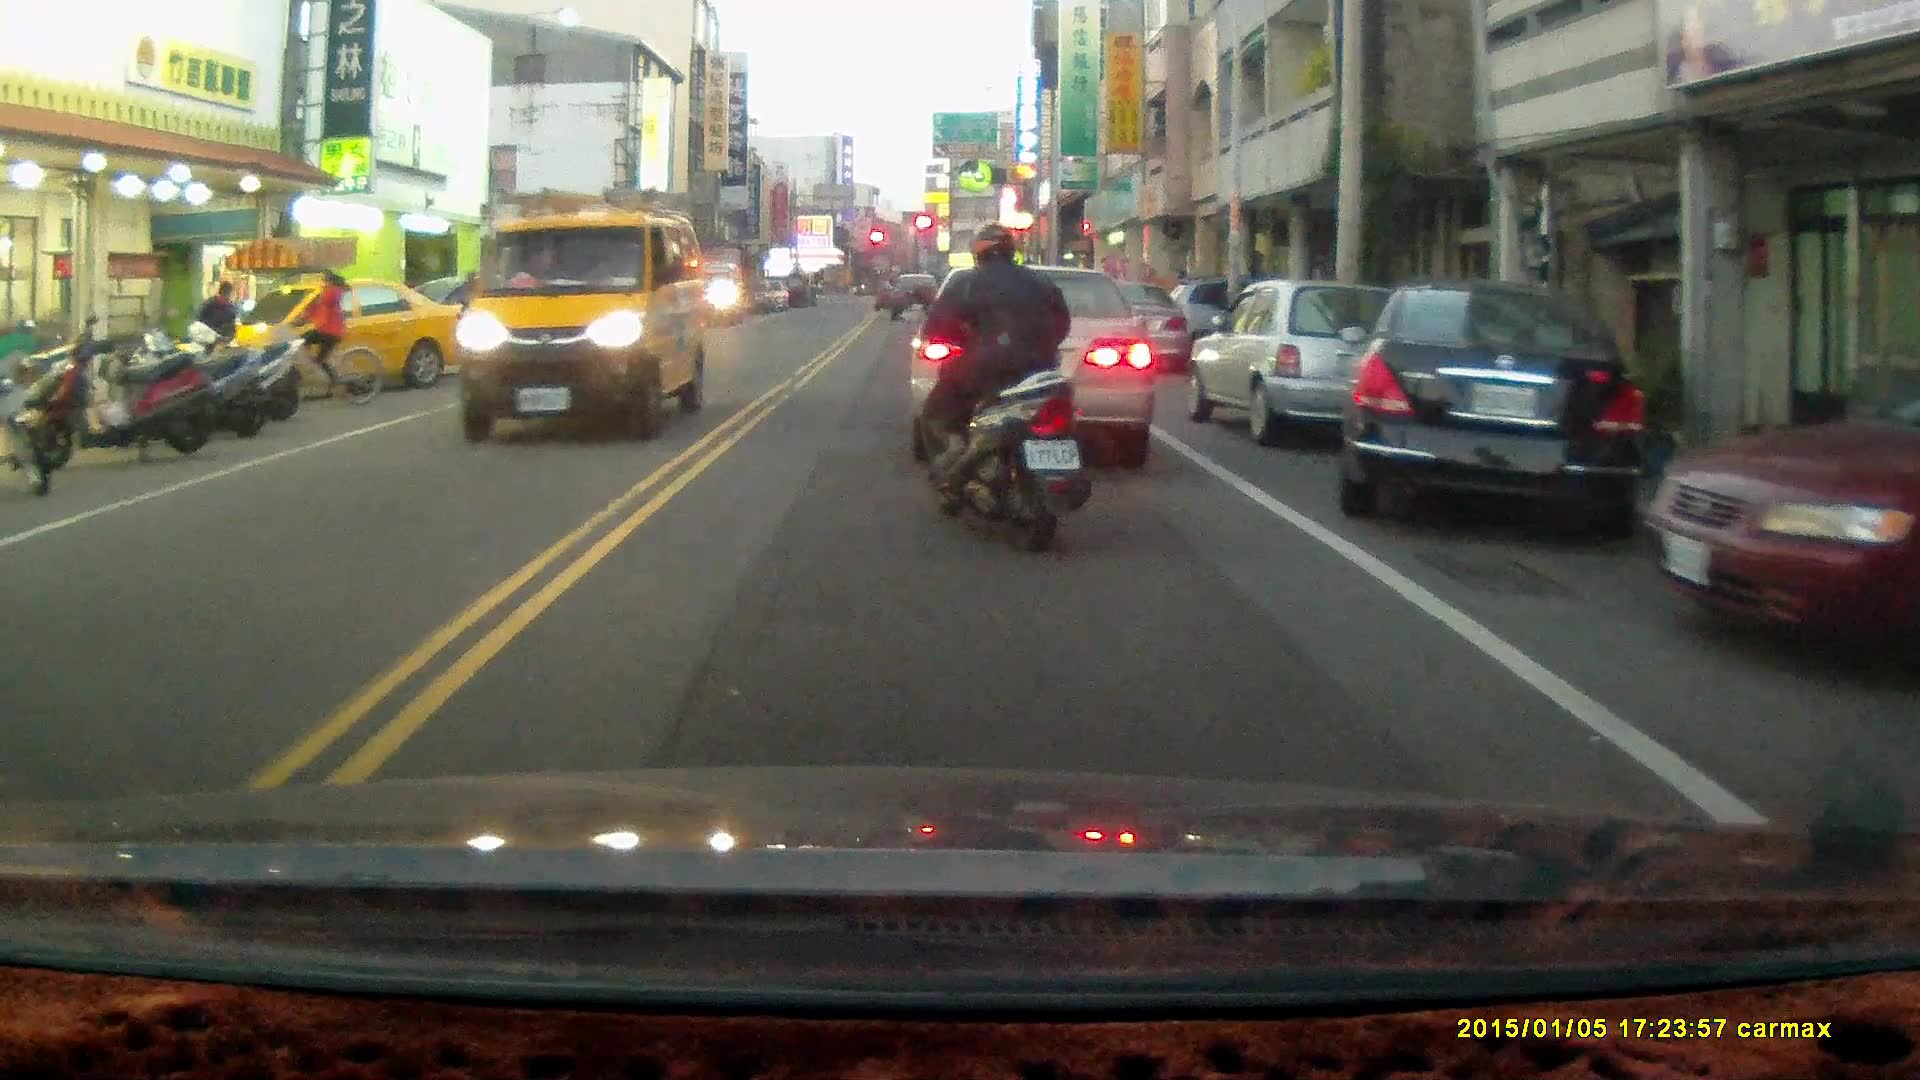pedestrian: (193, 282, 239, 384)
rider: (911, 221, 1091, 558), (268, 266, 380, 413)
vehicle: (1630, 349, 1920, 685), (1340, 287, 1651, 551), (458, 195, 710, 451), (912, 271, 1168, 473), (1183, 277, 1431, 453), (227, 288, 476, 404), (691, 268, 747, 333)
